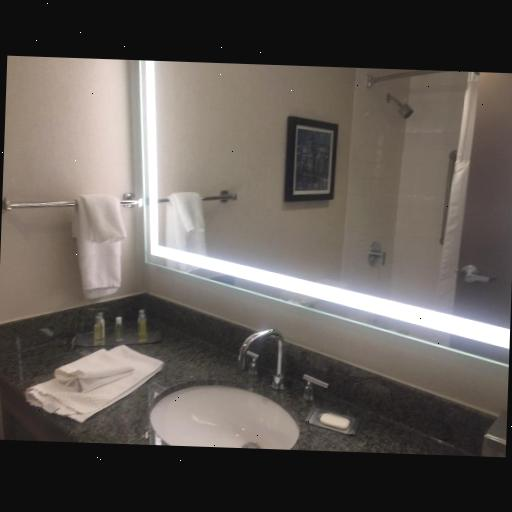clean_sink: (0, 292, 503, 455)
folded_towel: (16, 338, 167, 427)
mess: (68, 195, 136, 305)
